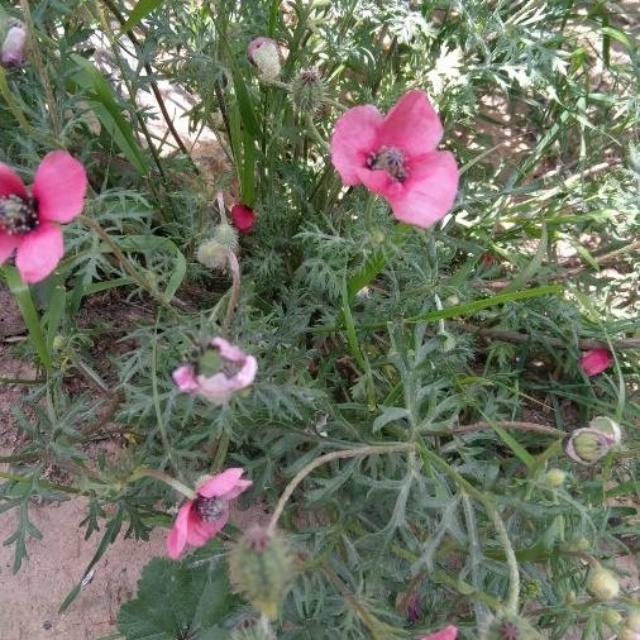obstacle: (10, 76, 570, 521)
